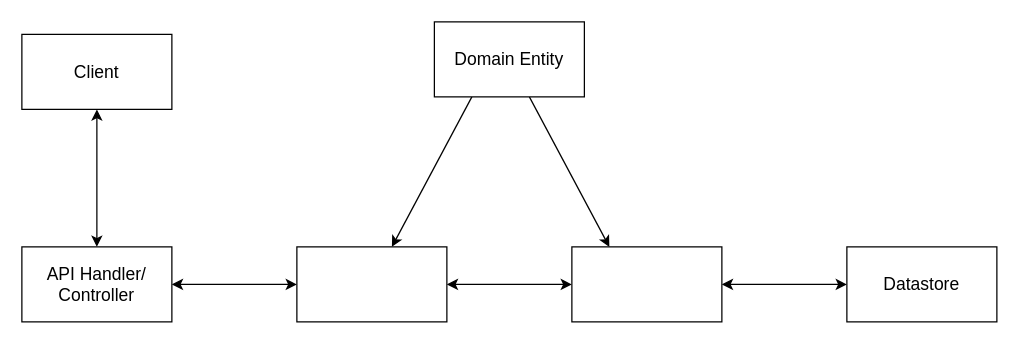
The diagram is 1019 pixels wide and 344 high, and some of its shapes have lost their labels. Here are the shapes that lost their labels. From the top down, the centre of each, then its label:
At [371,284]: "Domain Service".
At [646,284]: "Repository".
